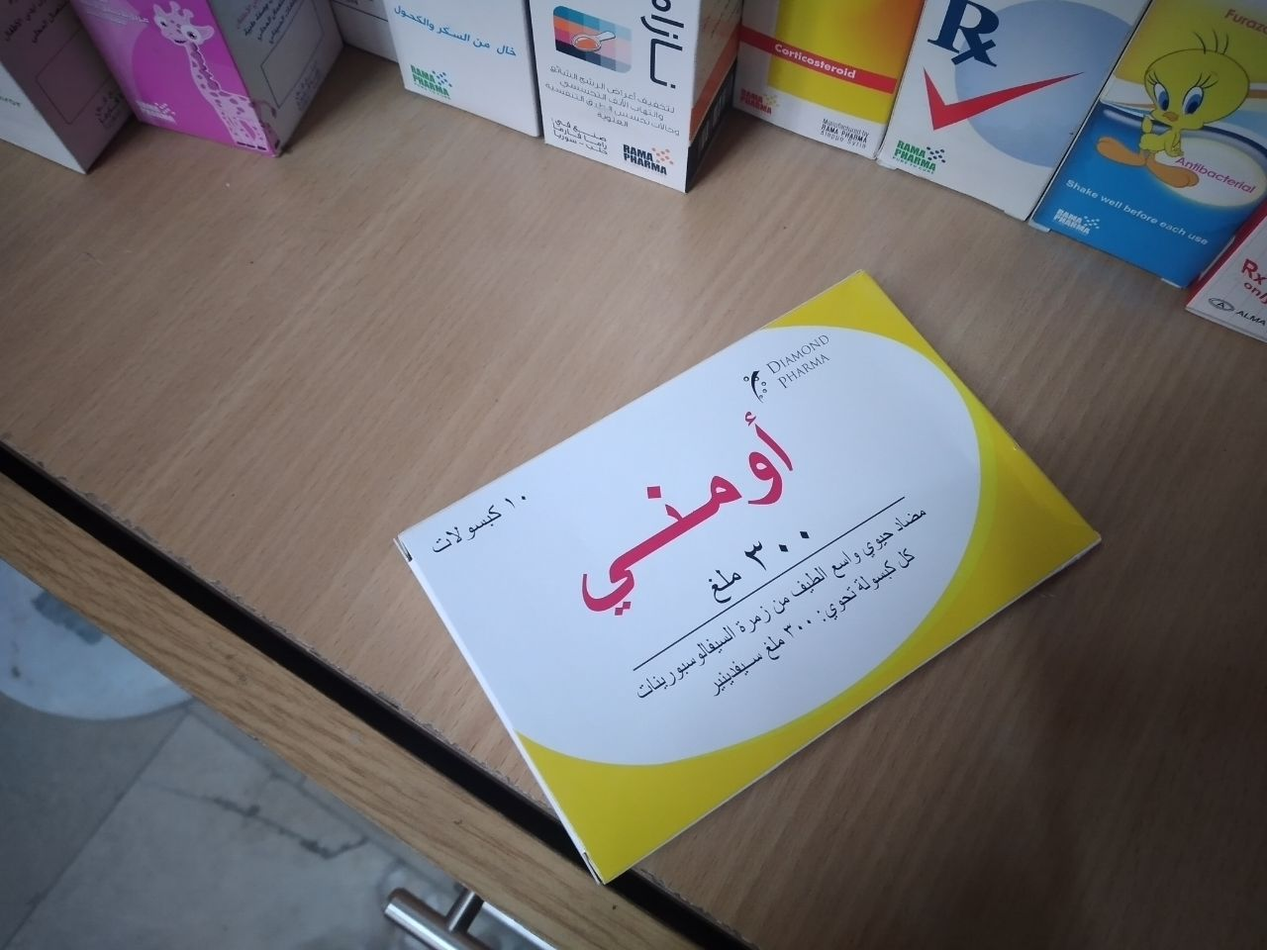Medicine: (381, 255, 1123, 878)
